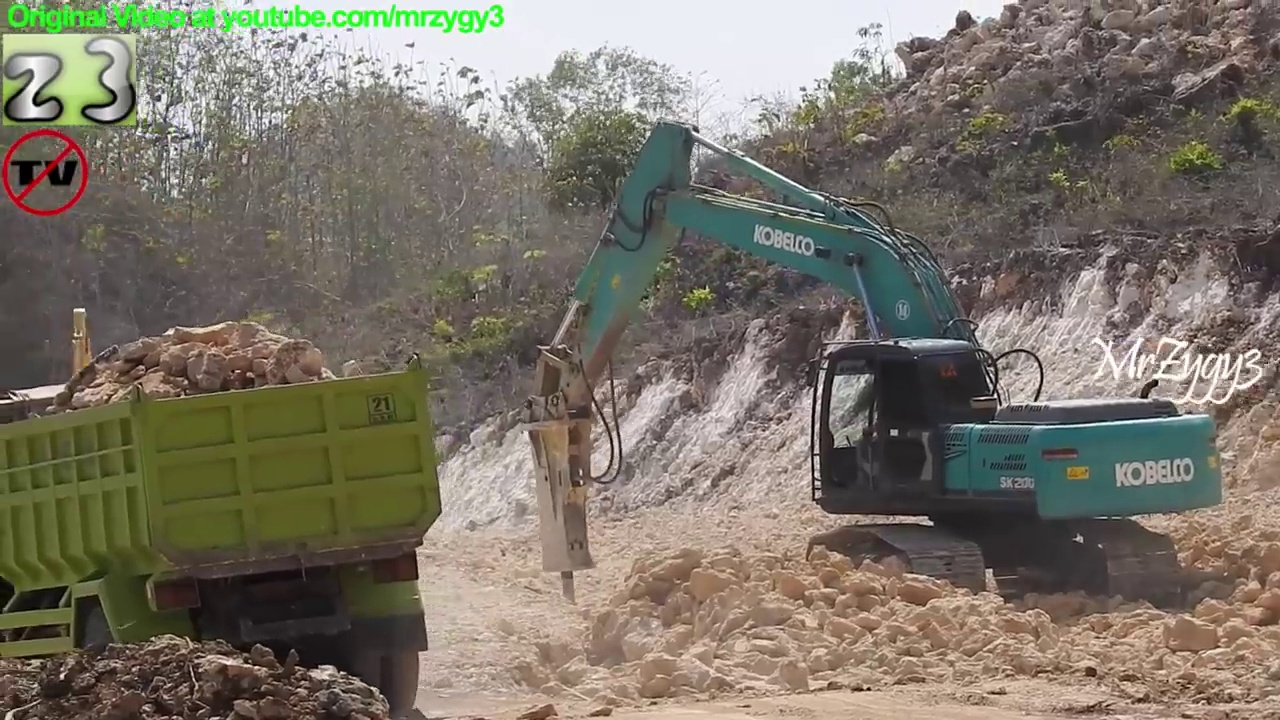excavator: (29, 303, 195, 589)
excavator breaker: (516, 116, 1231, 619)
truck: (1, 351, 455, 720)
